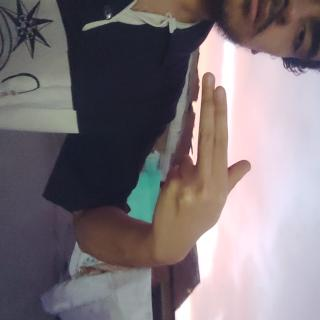GHAYN: (50, 88, 204, 235)
